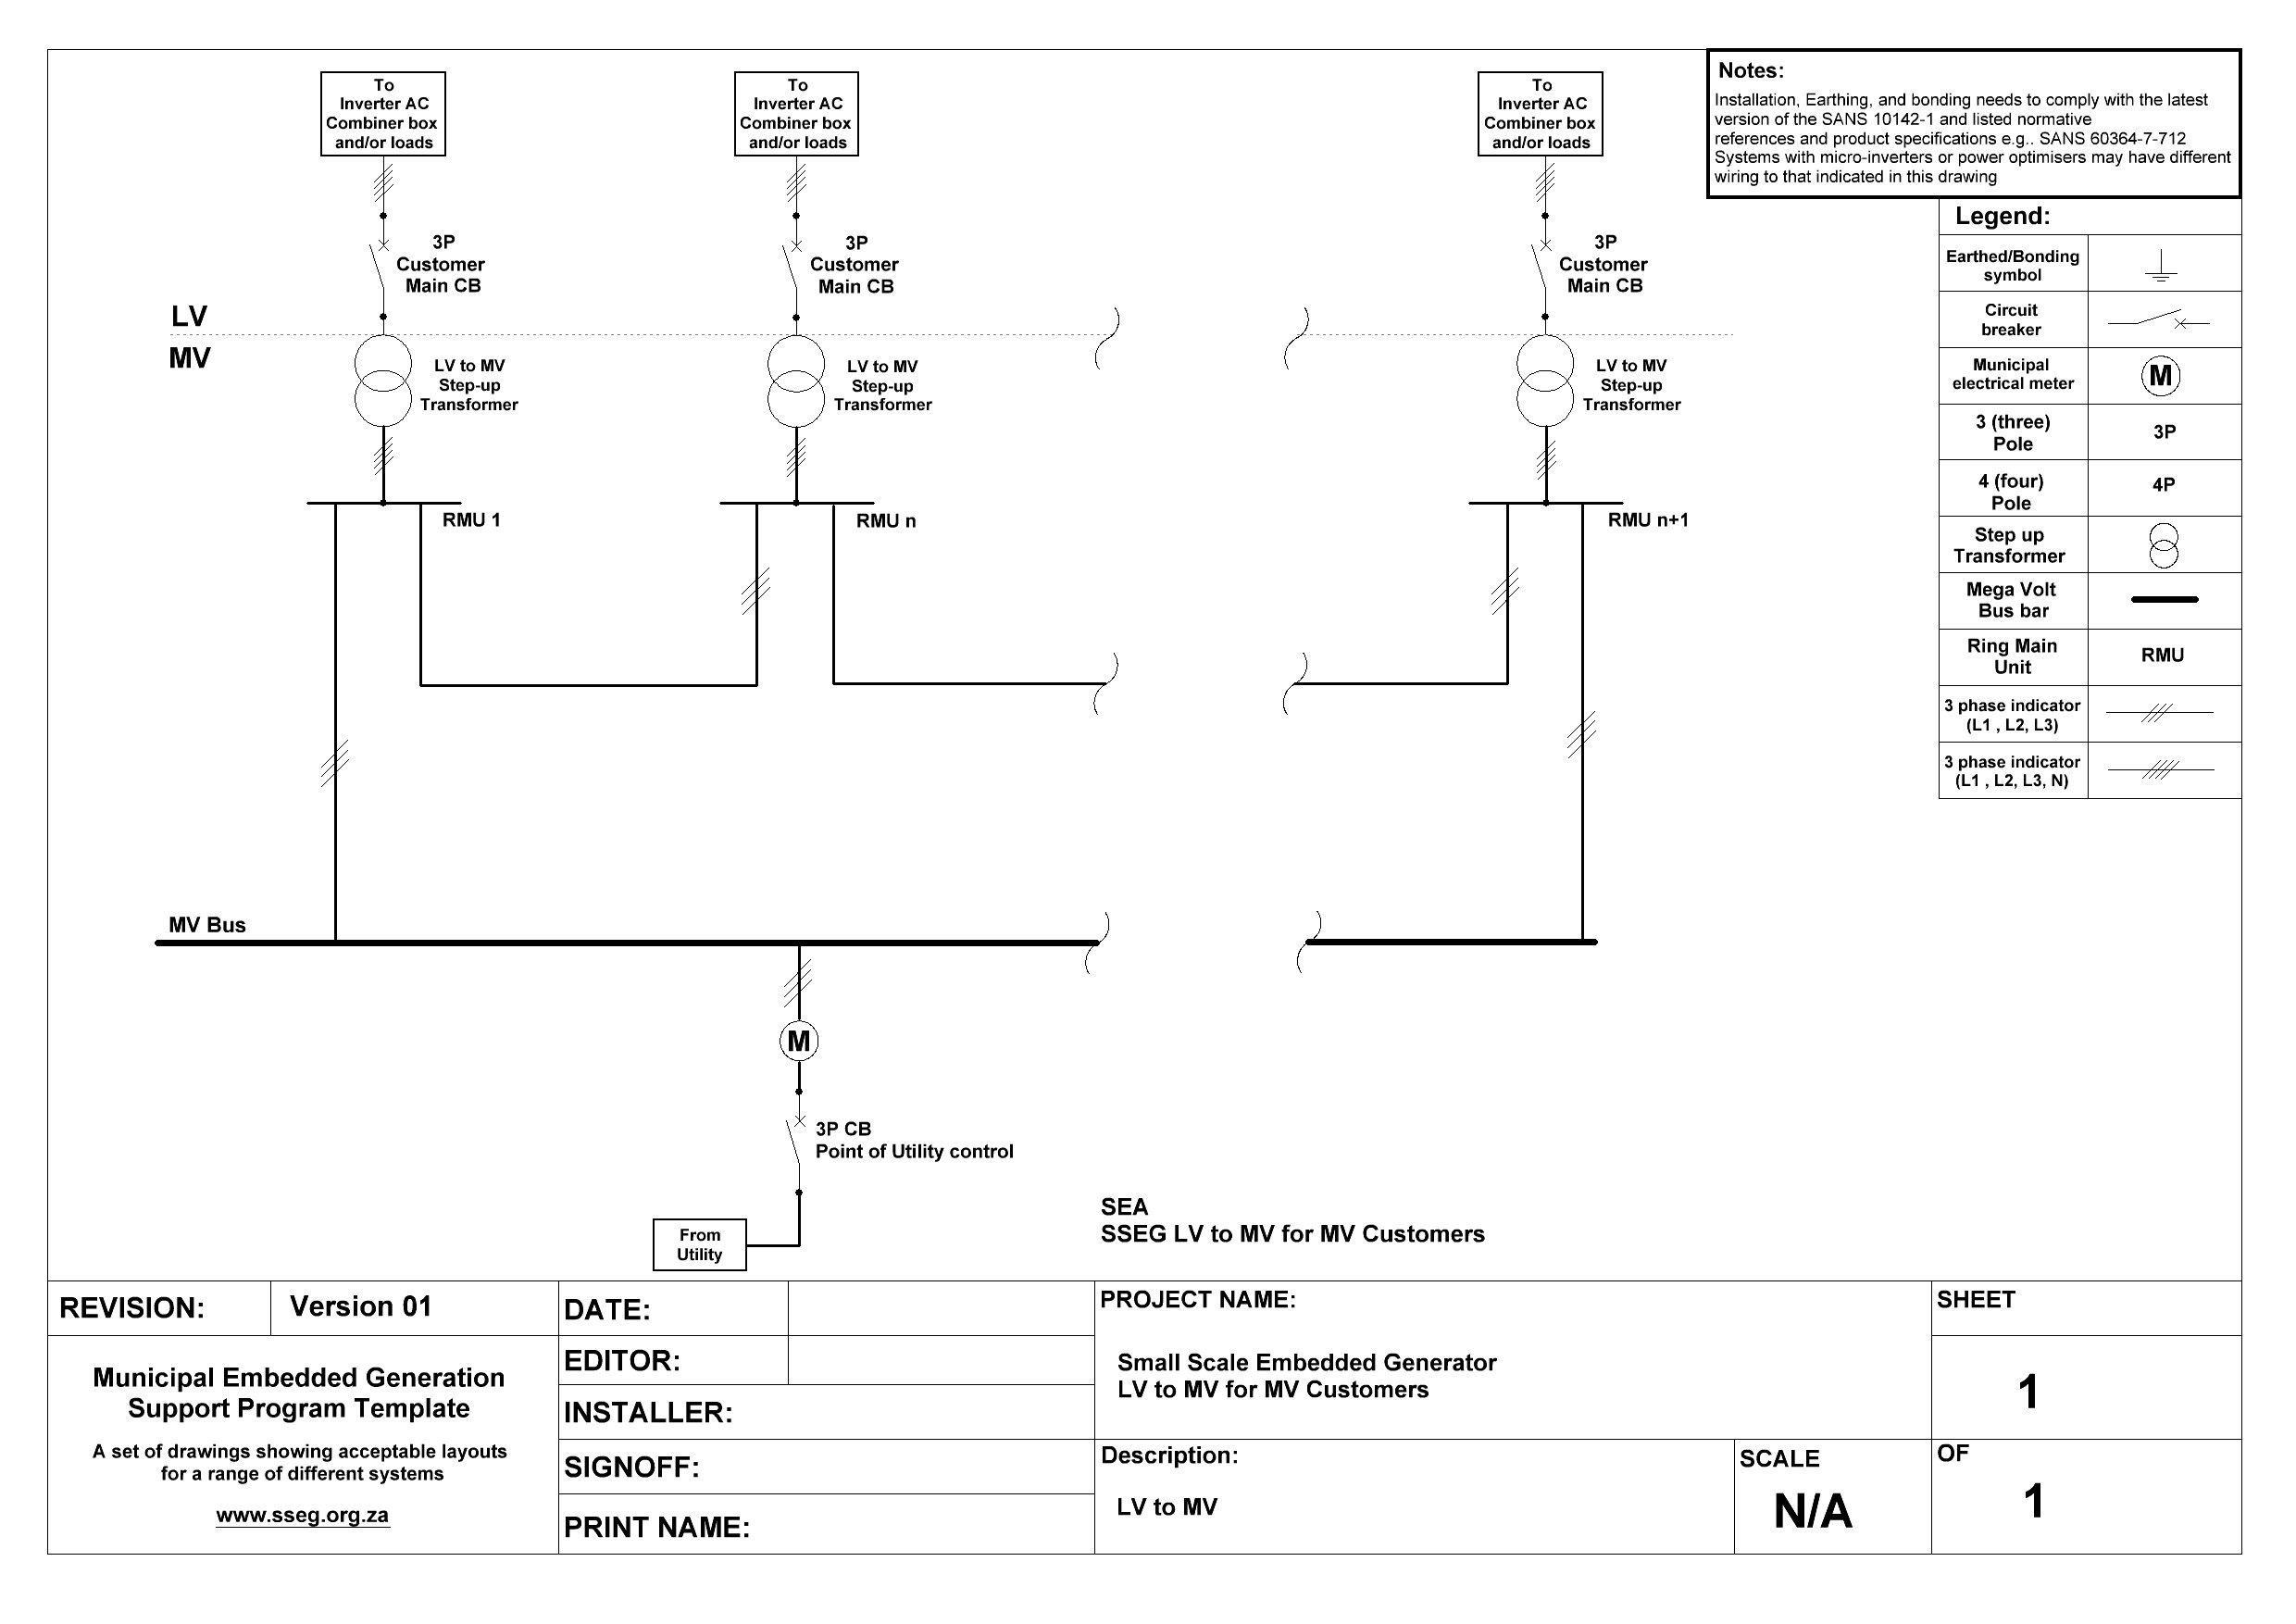switch: (754, 1097, 843, 1190), (336, 213, 413, 311), (1497, 230, 1576, 316), (755, 223, 838, 304)
